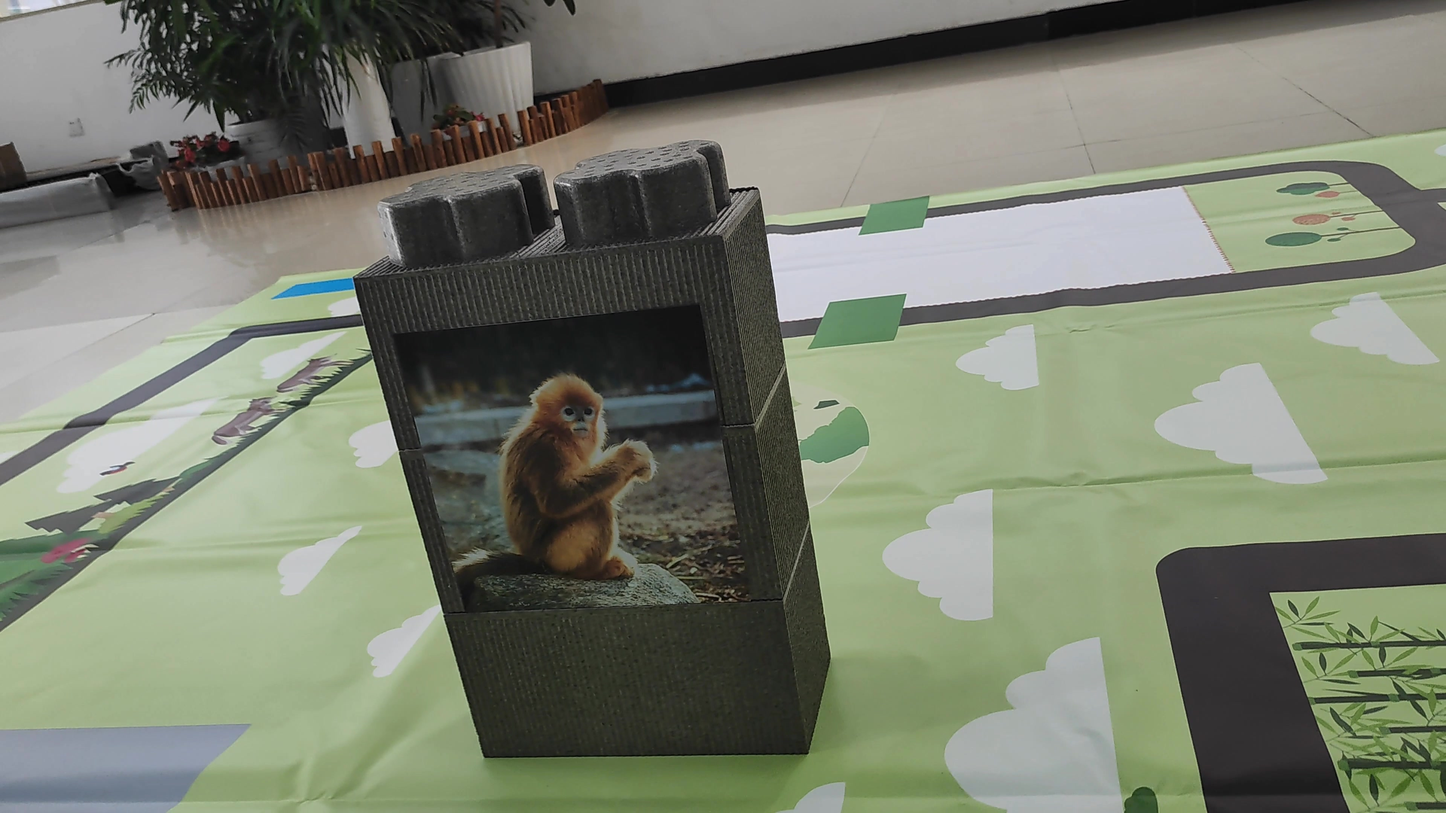monkey: (440, 356, 676, 608)
